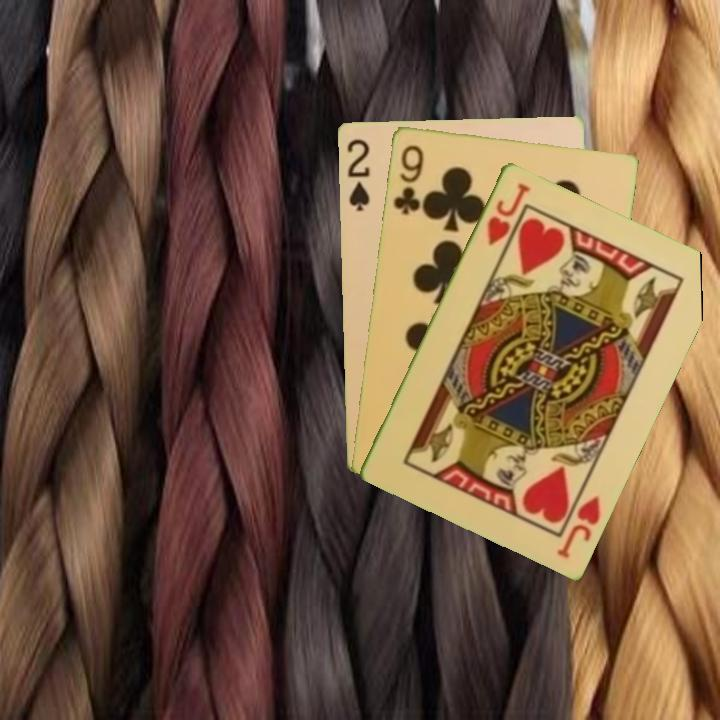2s: (343, 135, 372, 213)
9c: (389, 141, 426, 217)
Jh: (553, 490, 603, 561), (483, 179, 533, 248)
